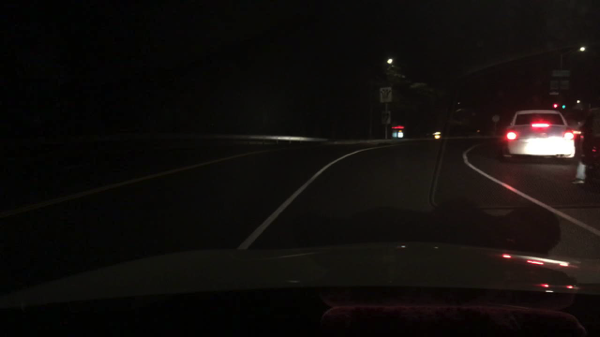car: (499, 109, 576, 162), (580, 109, 599, 188)
person: (572, 150, 592, 185)
traffic light: (553, 103, 558, 110), (563, 104, 566, 110)
traffic sign: (379, 87, 393, 104), (552, 69, 572, 78), (550, 80, 570, 89), (380, 110, 391, 125), (491, 114, 499, 122), (549, 92, 560, 96)
